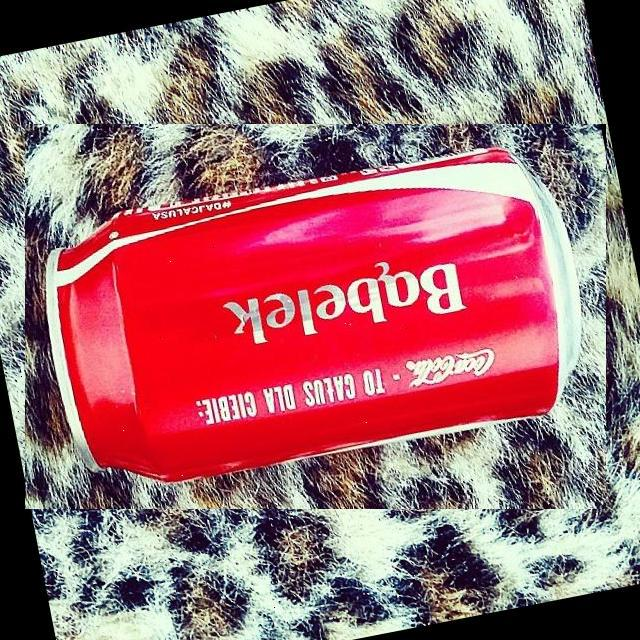coca-cola: (25, 124, 606, 509)
